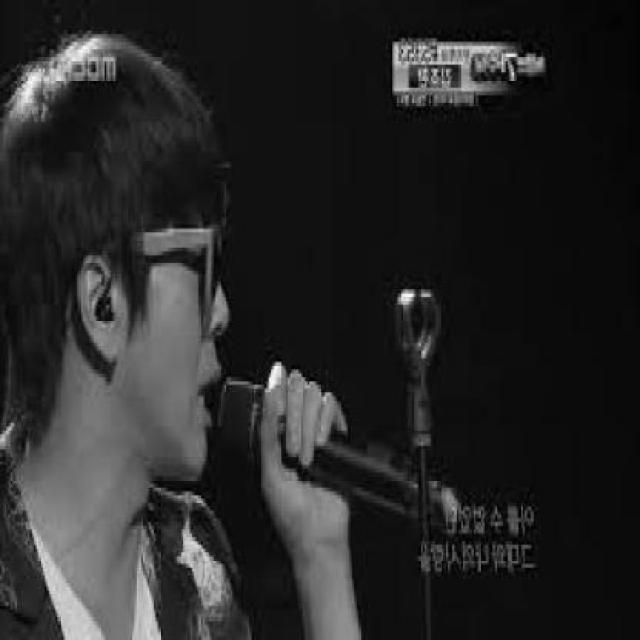earphone: (86, 272, 126, 353)
